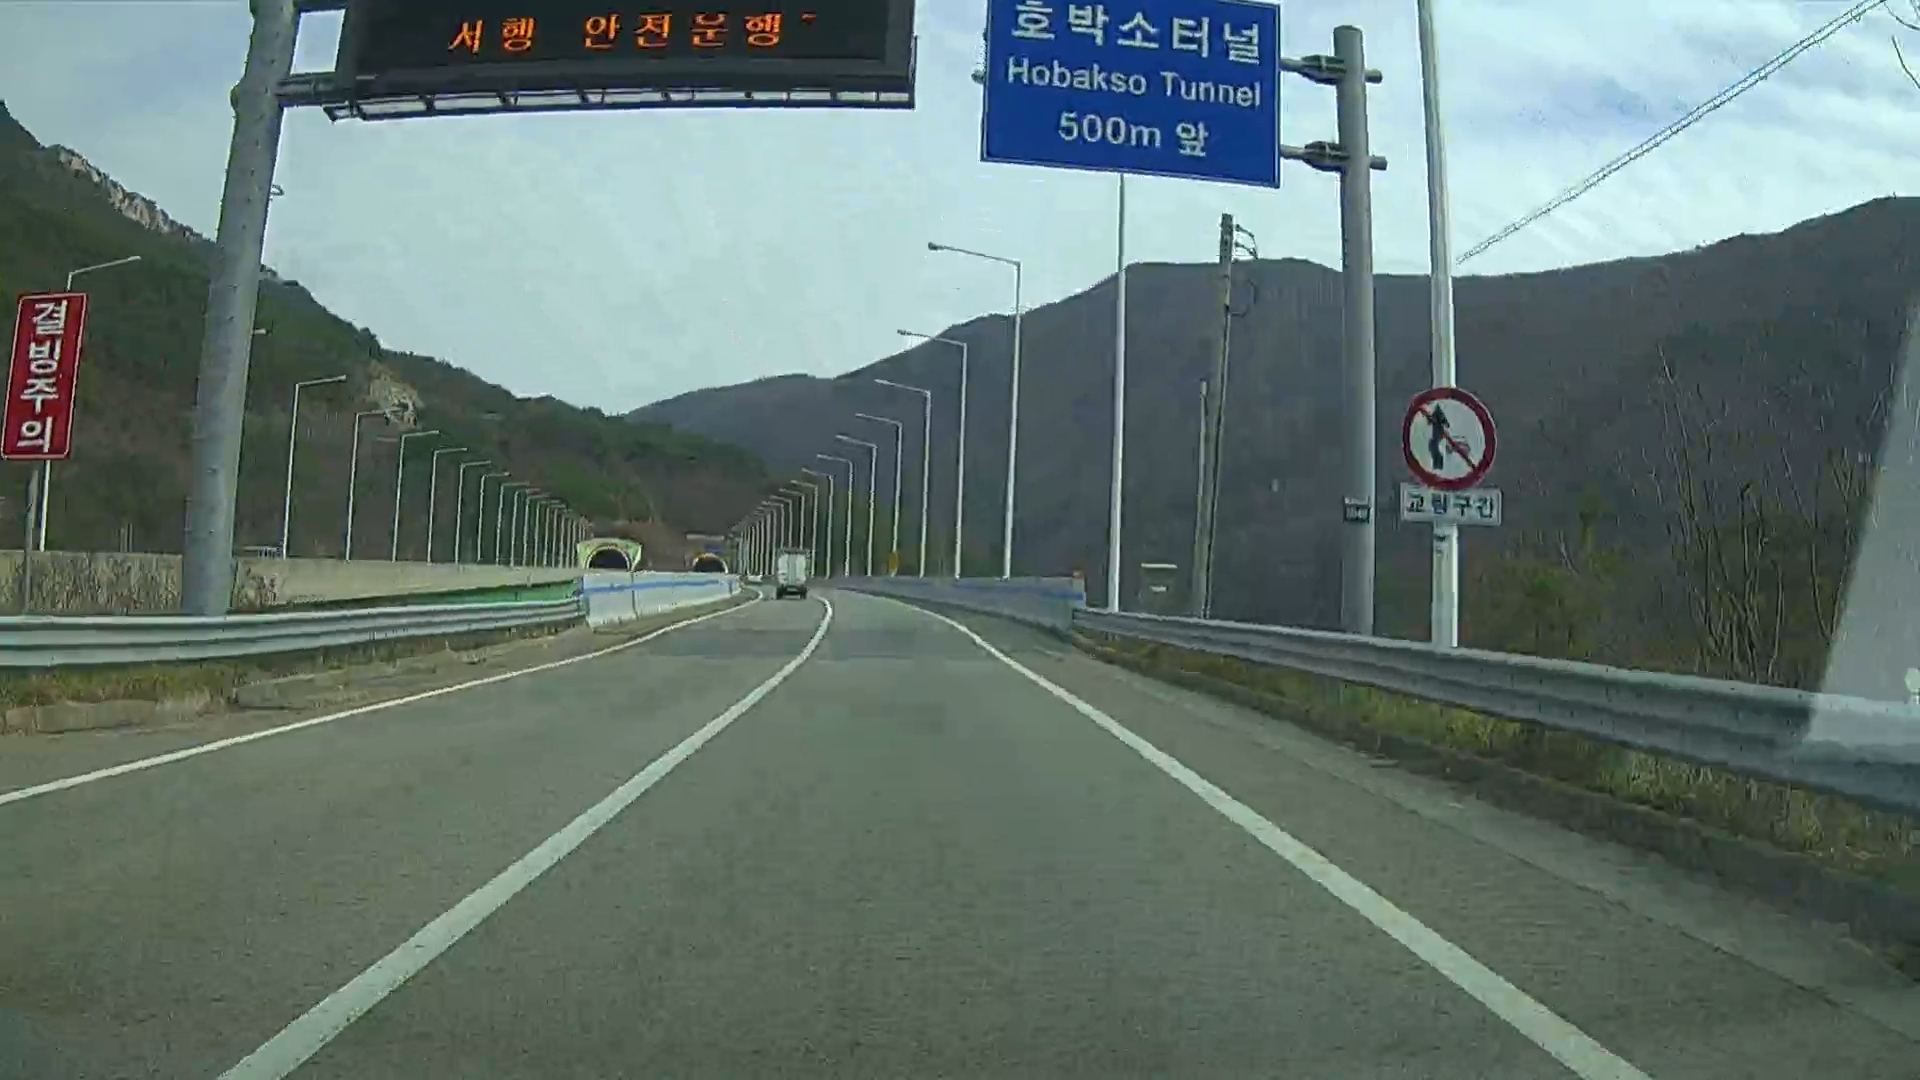trafficSignCircle: (1399, 385, 1497, 489)
